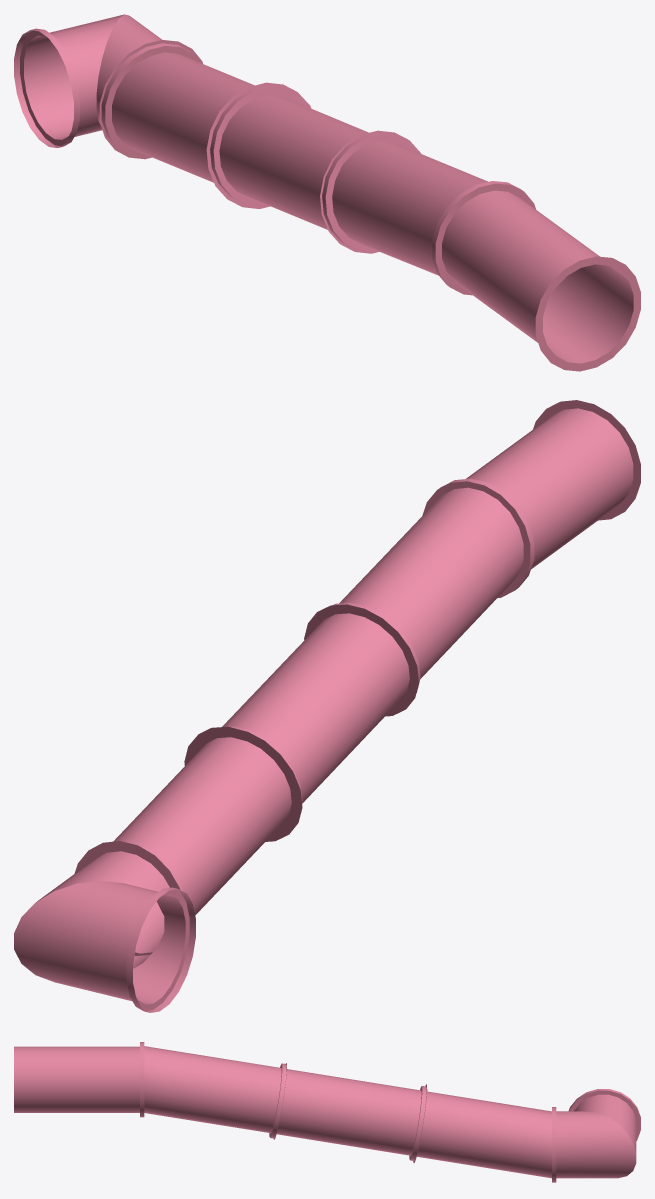
File: RioolPipes.fbx
The picture shows the model from 3 angles, top to bottom: view 1: azimuth 30°, elevation 25°; view 2: azimuth 150°, elevation 25°; view 3: azimuth 270°, elevation 25°; orthographic projection. The views are drawn at different scales.
Parts seen in each view (by area): view 1: PipeRecht, PIpeDown, PipeGoingDown, PIpeGoingStright, PIpeHoek; view 2: PIpeHoek, PIpeDown, PIpeGoingStright, PipeGoingDown, PipeRecht; view 3: PIpeDown, PipeGoingDown, PIpeGoingStright, PipeRecht, PIpeHoek.
Boxes of the visible parts, <box> form: PipeRecht: <box>432,181,640,371</box>; PIpeDown: <box>210,86,420,253</box>; PipeGoingDown: <box>322,133,487,275</box>; PIpeGoingStright: <box>101,43,311,208</box>; PIpeHoek: <box>14,14,202,159</box>; PIpeHoek: <box>14,841,195,1012</box>; PIpeDown: <box>222,604,418,803</box>; PIpeGoingStright: <box>113,726,302,955</box>; PipeGoingDown: <box>333,481,530,692</box>; PipeRecht: <box>439,400,640,590</box>; PIpeDown: <box>274,1063,426,1160</box>; PipeGoingDown: <box>144,1046,286,1138</box>; PIpeGoingStright: <box>413,1084,556,1182</box>; PipeRecht: <box>14,1042,144,1117</box>; PIpeHoek: <box>556,1089,640,1178</box>.
Size of the model in its own units: 151 by 246 by 1034.
